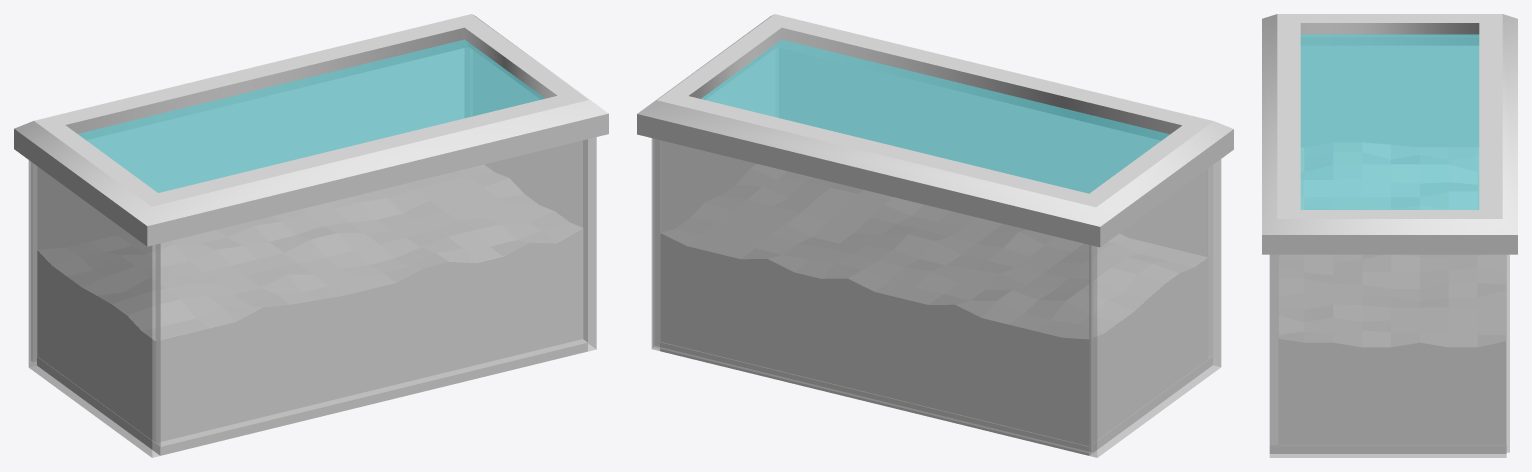
Rendered from Bin Cage.fbx.
The picture shows the model from 3 angles, left to right: view 1: azimuth 30°, elevation 25°; view 2: azimuth 150°, elevation 25°; view 3: azimuth 270°, elevation 25°; orthographic projection. The views are drawn at different scales.
Visible parts, largest first — view 1: Bedding, Back, Lid, Front, Right, Left, Floor; view 2: Bedding, Front, Lid, Back, Right, Left, Floor; view 3: Lid, Bedding, Left, Right, Floor, Back, Front.
Part boxes in pixels (x1,y1,x2,y2): Bedding: (37, 165, 583, 442); Back: (156, 139, 587, 446); Lid: (14, 14, 608, 246); Front: (31, 48, 464, 361); Right: (28, 160, 160, 457); Left: (465, 43, 596, 351); Floor: (37, 339, 587, 455); Bedding: (660, 164, 1207, 445); Front: (653, 138, 1093, 453); Lid: (637, 14, 1233, 247); Back: (779, 48, 1212, 358); Right: (1089, 159, 1221, 457); Left: (651, 42, 778, 350); Floor: (660, 342, 1212, 455); Lid: (1262, 14, 1517, 254); Bedding: (1278, 142, 1505, 444); Left: (1269, 254, 1506, 457); Right: (1301, 36, 1478, 146); Floor: (1269, 255, 1506, 453); Back: (1270, 255, 1278, 444); Front: (1506, 254, 1509, 452).
Bounding box in the file's own units: 6503 × 3331 × 3251.
